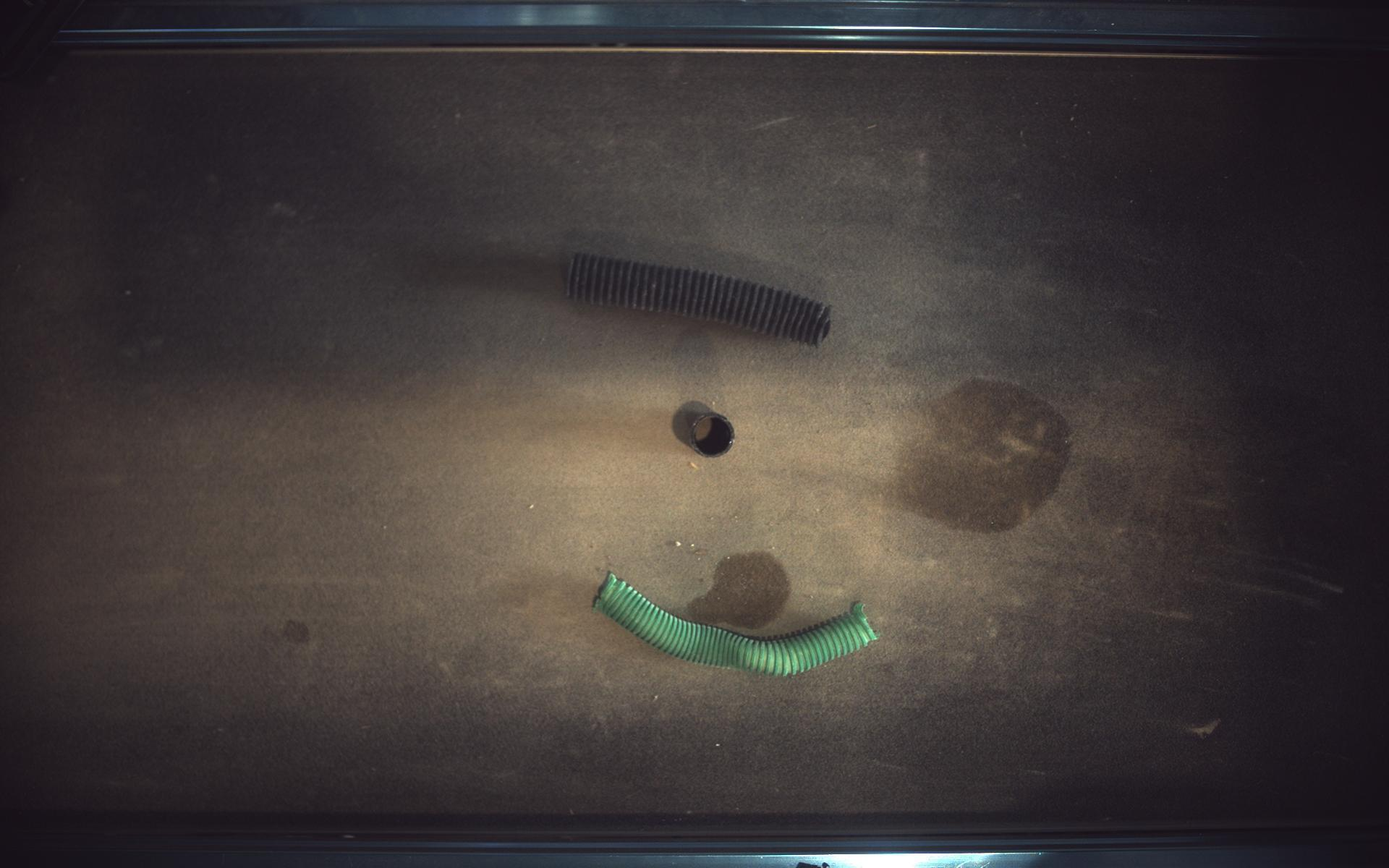pipes: (595, 573, 879, 677), (567, 252, 831, 345), (673, 401, 736, 457)
